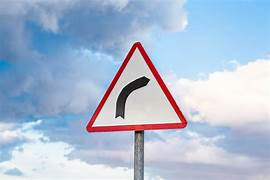right: (84, 41, 188, 132)
